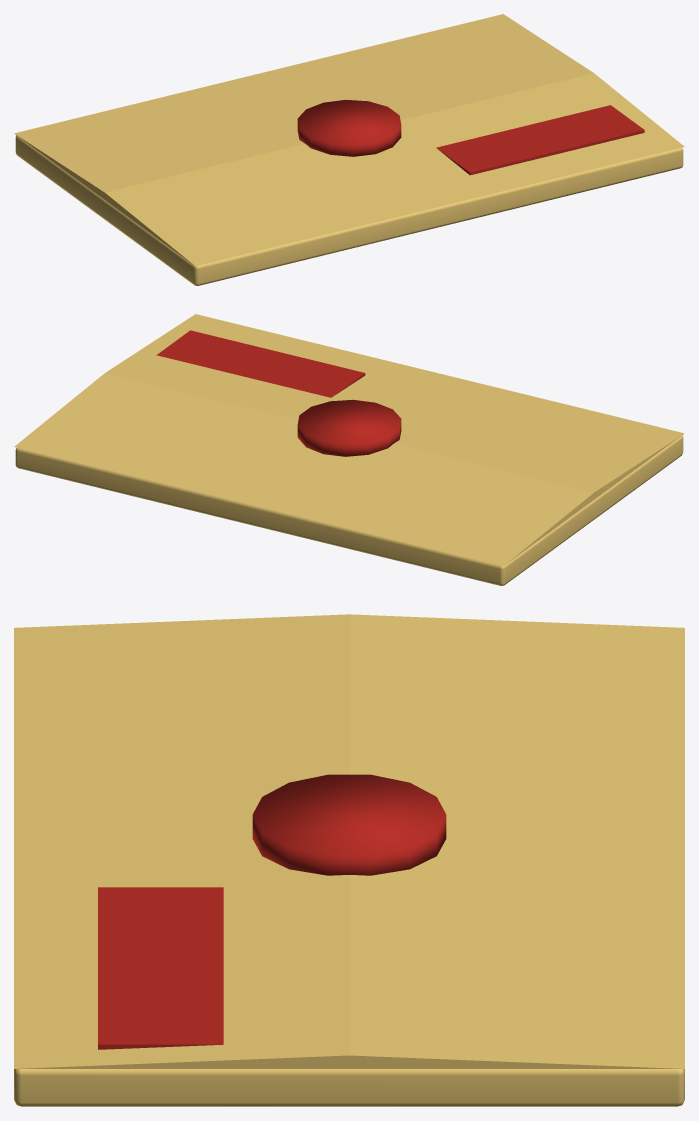
Rendered from SalaryList.fbx.
3 views of the same model, one above another, from view 1: azimuth 30°, elevation 25°; view 2: azimuth 150°, elevation 25°; view 3: azimuth 270°, elevation 25° (orthographic). The views are drawn at different scales.
Visible parts, largest first — view 1: Flap, Envelope, Stamp.001, Seal; view 2: Flap, Envelope, Stamp.001, Seal; view 3: Flap, Envelope, Stamp.001, Seal.
Part boxes in pixels (x1=…): Flap: x1=14, y1=14, x2=684, y2=266; Envelope: x1=15, y1=135, x2=683, y2=285; Stamp.001: x1=436, y1=105, x2=644, y2=175; Seal: x1=297, y1=99, x2=401, y2=156; Flap: x1=14, y1=314, x2=684, y2=566; Envelope: x1=15, y1=435, x2=683, y2=585; Stamp.001: x1=156, y1=330, x2=365, y2=397; Seal: x1=297, y1=399, x2=401, y2=456; Flap: x1=14, y1=614, x2=684, y2=1068; Envelope: x1=14, y1=1069, x2=684, y2=1106; Stamp.001: x1=98, y1=887, x2=223, y2=1049; Seal: x1=252, y1=774, x2=446, y2=875.
Size of the model in its own units: 0.28 by 0.022 by 0.18.
